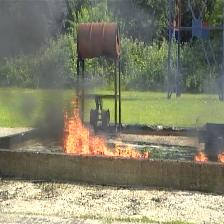fire: (62, 95, 150, 158)
